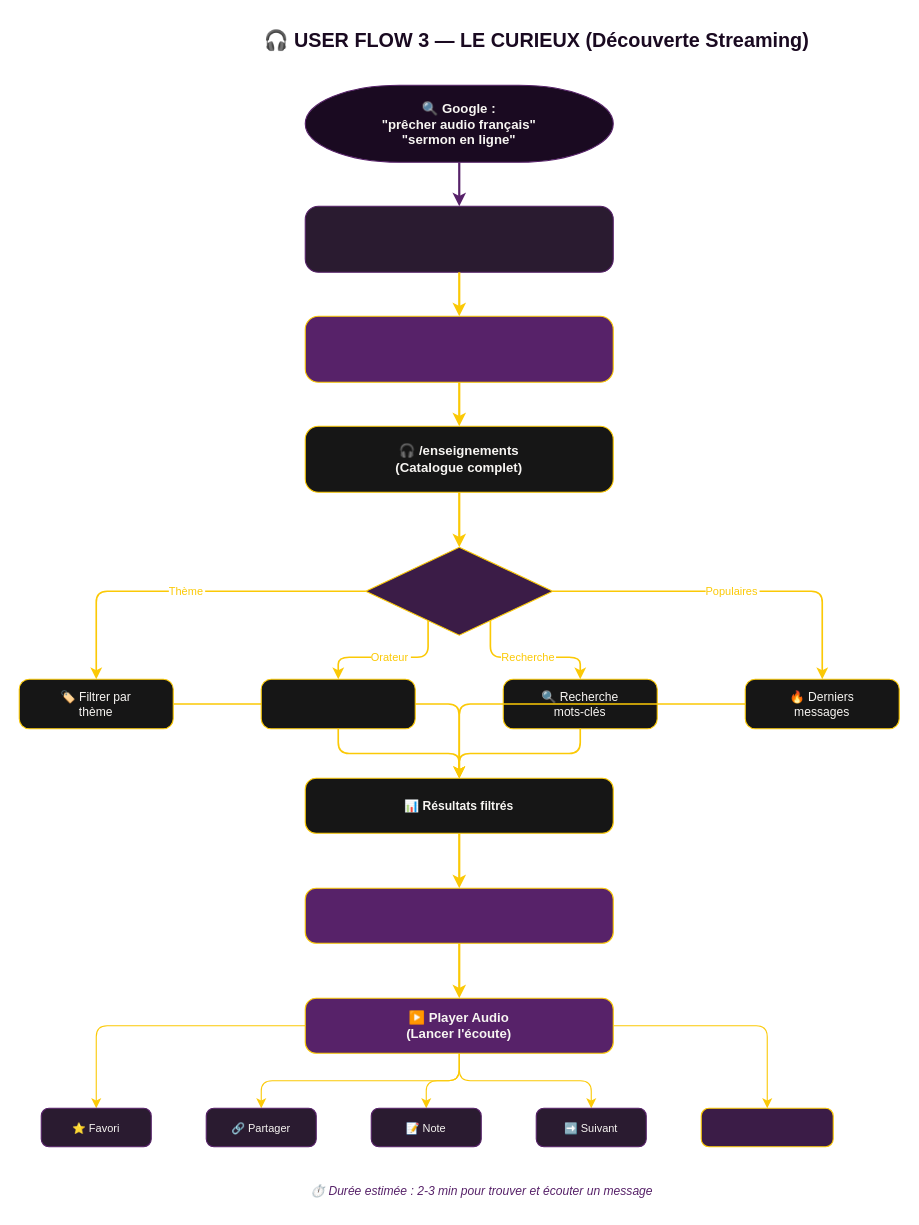
Some shapes in this 919 by 1225 pixel diagram are drawn without their labels. The shapes that lost their labels are listed below. From the top down, each one's box as (x1, y1, x2, y2) in pixels, then its label:
(304, 205, 613, 272): 🏠 Homepage (SEO optimized)
(304, 315, 613, 382): 🎧 "Découvrir nos enseignements" → CTA
(365, 546, 553, 635): Comment chercher ?
(260, 678, 415, 729): 👤 Filtrer par orateur
(304, 887, 613, 943): 🎧 Fiche Message (Orateur, Date, Description)
(700, 1107, 833, 1147): 🔐 Inscription (optionnel)
